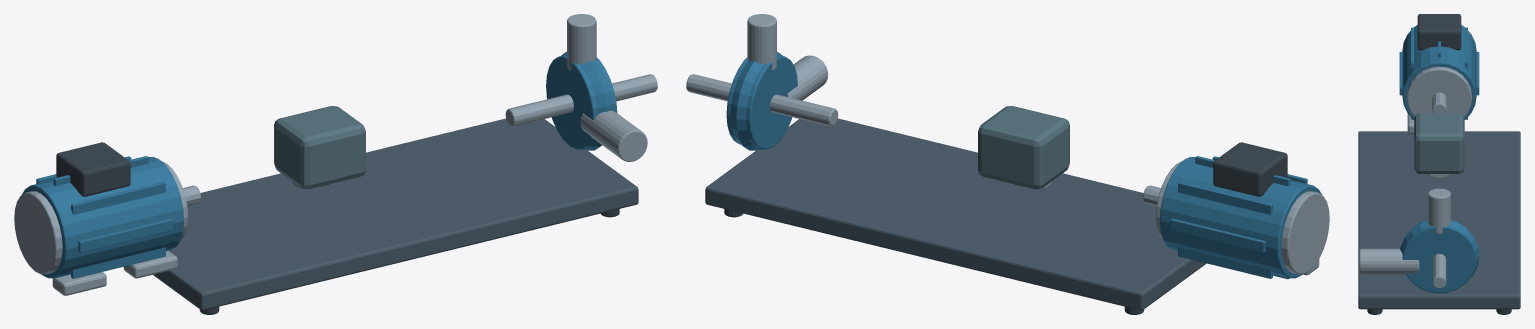
Rendered from circulation-water-pump-lod1.glb.
The picture shows the model from 3 angles, left to right: view 1: azimuth 30°, elevation 25°; view 2: azimuth 150°, elevation 25°; view 3: azimuth 270°, elevation 25°; orthographic projection. The views are drawn at different scales.
Visible parts, largest first — view 1: drive_base, motor, coupling_guard, circulation_water_stage_1, motor_rear_endcap, motor_terminal_box, circulation_water_shaft, circulation_water_inlet, circulation_water_outlet, motor_cooling_fin_04, motor_cooling_fin_03, circulation_water_volute (+3 smaller); view 2: drive_base, motor, coupling_guard, circulation_water_stage_1, motor_rear_endcap, motor_terminal_box, circulation_water_shaft, circulation_water_volute, circulation_water_outlet, motor_cooling_fin_00, circulation_water_inlet, motor_cooling_fin_01 (+1 smaller); view 3: drive_base, circulation_water_stage_1, coupling_guard, motor, motor_front_endcap, motor_terminal_box, circulation_water_inlet, circulation_water_outlet, circulation_water_volute, circulation_water_shaft, motor_shaft, motor_cooling_fin_00 (+4 smaller).
Boxes of the visible parts, x1,y1,x2,y2 form: drive_base: [153, 118, 638, 310]; motor: [22, 157, 184, 278]; coupling_guard: [274, 106, 365, 189]; circulation_water_stage_1: [546, 55, 617, 149]; motor_rear_endcap: [14, 191, 62, 274]; motor_terminal_box: [56, 142, 130, 196]; circulation_water_shaft: [505, 74, 657, 126]; circulation_water_inlet: [580, 110, 647, 161]; circulation_water_outlet: [567, 14, 596, 70]; motor_cooling_fin_04: [78, 218, 173, 252]; motor_cooling_fin_03: [71, 182, 165, 214]; circulation_water_volute: [561, 51, 612, 150]; drive_base: [705, 118, 1206, 310]; motor: [1159, 157, 1321, 278]; coupling_guard: [978, 106, 1069, 189]; circulation_water_stage_1: [726, 55, 797, 149]; motor_rear_endcap: [1281, 191, 1329, 274]; motor_terminal_box: [1213, 142, 1287, 196]; circulation_water_shaft: [686, 74, 838, 126]; circulation_water_volute: [730, 51, 782, 150]; circulation_water_outlet: [747, 14, 776, 70]; motor_cooling_fin_00: [1170, 218, 1265, 252]; circulation_water_inlet: [787, 55, 828, 100]; motor_cooling_fin_01: [1178, 182, 1272, 214]; drive_base: [1358, 131, 1520, 309]; circulation_water_stage_1: [1402, 219, 1476, 293]; coupling_guard: [1414, 113, 1464, 173]; motor: [1402, 25, 1476, 119]; motor_front_endcap: [1406, 66, 1472, 116]; motor_terminal_box: [1417, 14, 1461, 50]; circulation_water_inlet: [1359, 248, 1419, 275]; circulation_water_outlet: [1428, 188, 1450, 233]; circulation_water_volute: [1400, 221, 1479, 280]; circulation_water_shaft: [1432, 254, 1446, 288]; motor_shaft: [1432, 92, 1446, 113]; motor_cooling_fin_00: [1476, 52, 1479, 95].
Size of the model in its own units: 11.59 by 2.87 by 3.4.
